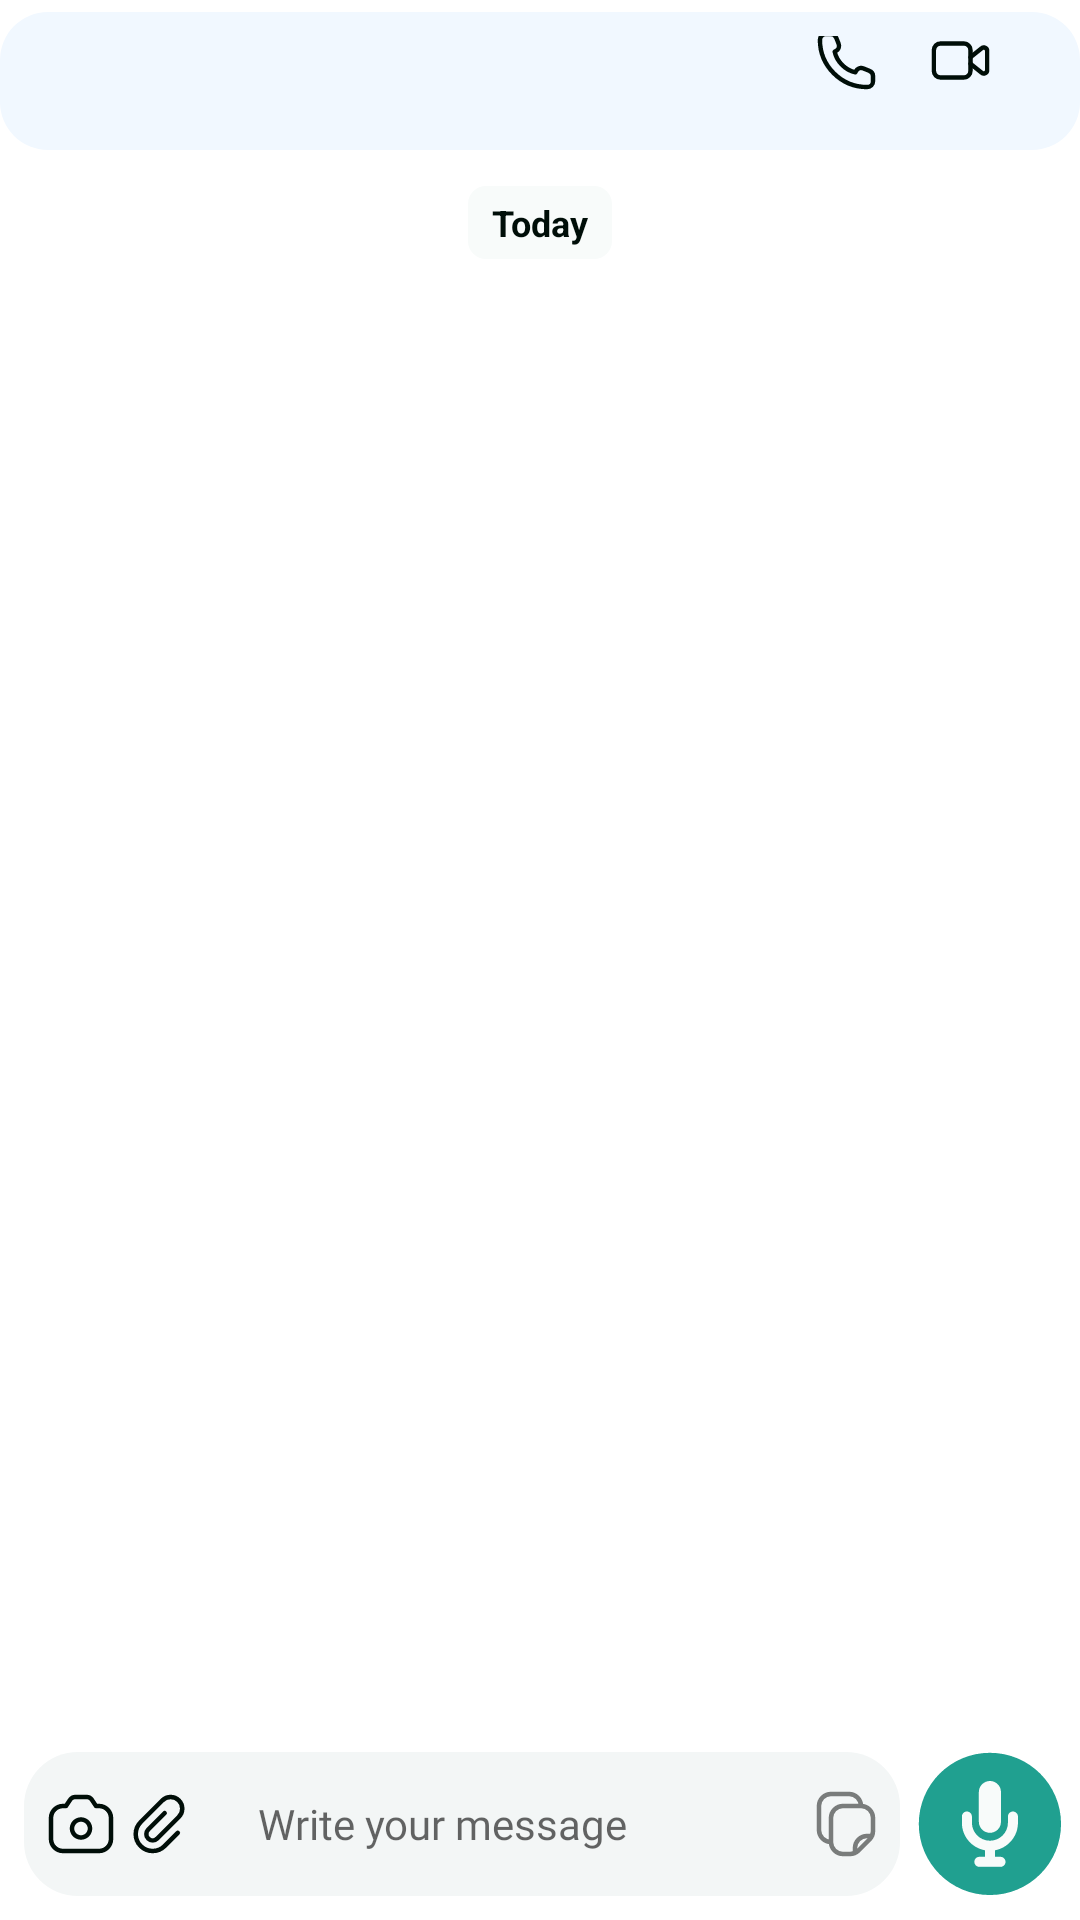

Screen size 1080w x 1920h. Icon name, then its center in pixels as point (x, y):
chat mic: point (989, 1823)
messages audio call: point (846, 63)
messages call video: point (960, 60)
